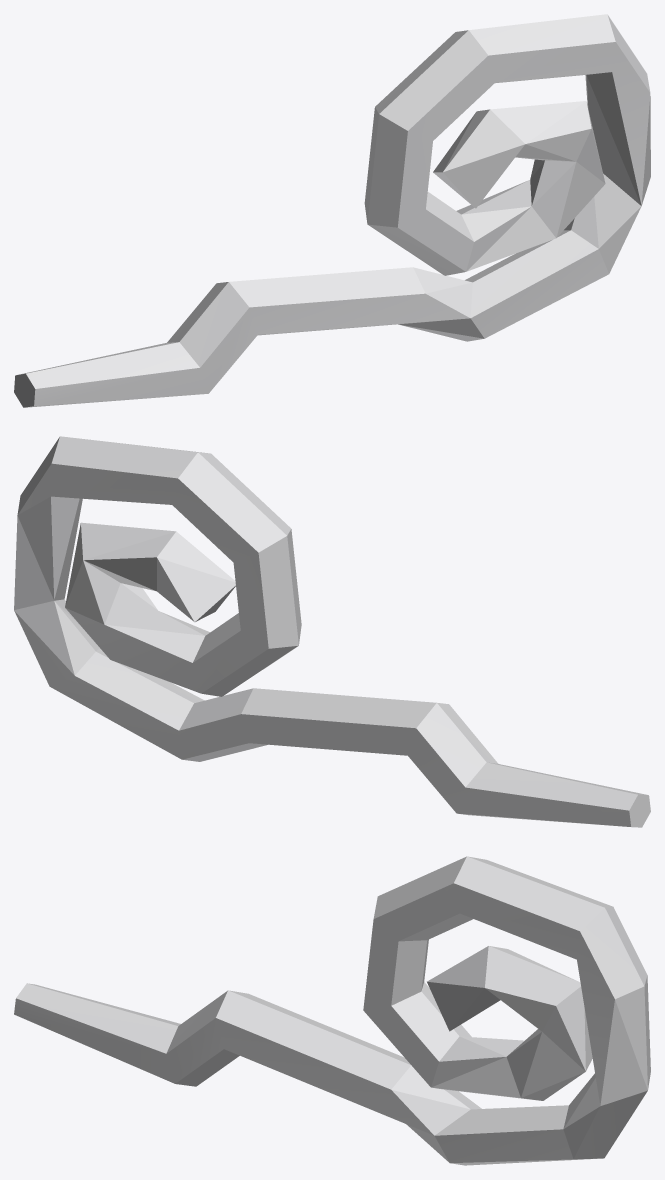
The model's file is stylize_cloud_17.fbx.
The picture shows the model from 3 angles, top to bottom: view 1: azimuth 30°, elevation 25°; view 2: azimuth 150°, elevation 25°; view 3: azimuth 330°, elevation 25°; orthographic projection.
Visible parts, largest first — view 1: cloud_98; view 2: cloud_98; view 3: cloud_98.
Boxes of the visible parts, x1,y1,x2,y2 form: cloud_98: (14,14,650,407); cloud_98: (14,436,650,827); cloud_98: (14,856,650,1165).
Bounding box in the file's own units: 517 × 245 × 55.65.
